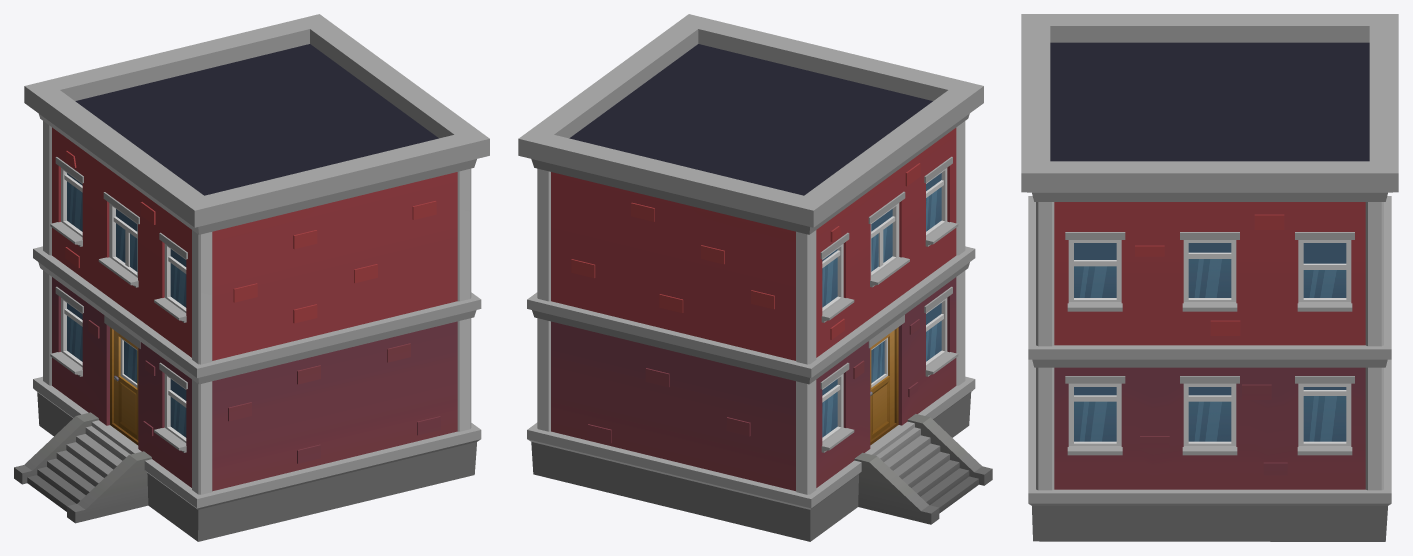
The model's file is Building_2_1_J.fbx.
3 views of the same model, side by side, from view 1: azimuth 30°, elevation 25°; view 2: azimuth 150°, elevation 25°; view 3: azimuth 270°, elevation 25° (orthographic). The views are drawn at different scales.
Visible parts, largest first — view 1: Building_2_1_J; view 2: Building_2_1_J; view 3: Building_2_1_J.
Boxes of the visible parts, <box> form: Building_2_1_J: <box>14,14,489,541</box>; Building_2_1_J: <box>518,14,992,541</box>; Building_2_1_J: <box>1021,14,1398,541</box>.
Size of the model in its own units: 755 by 678 by 620.
